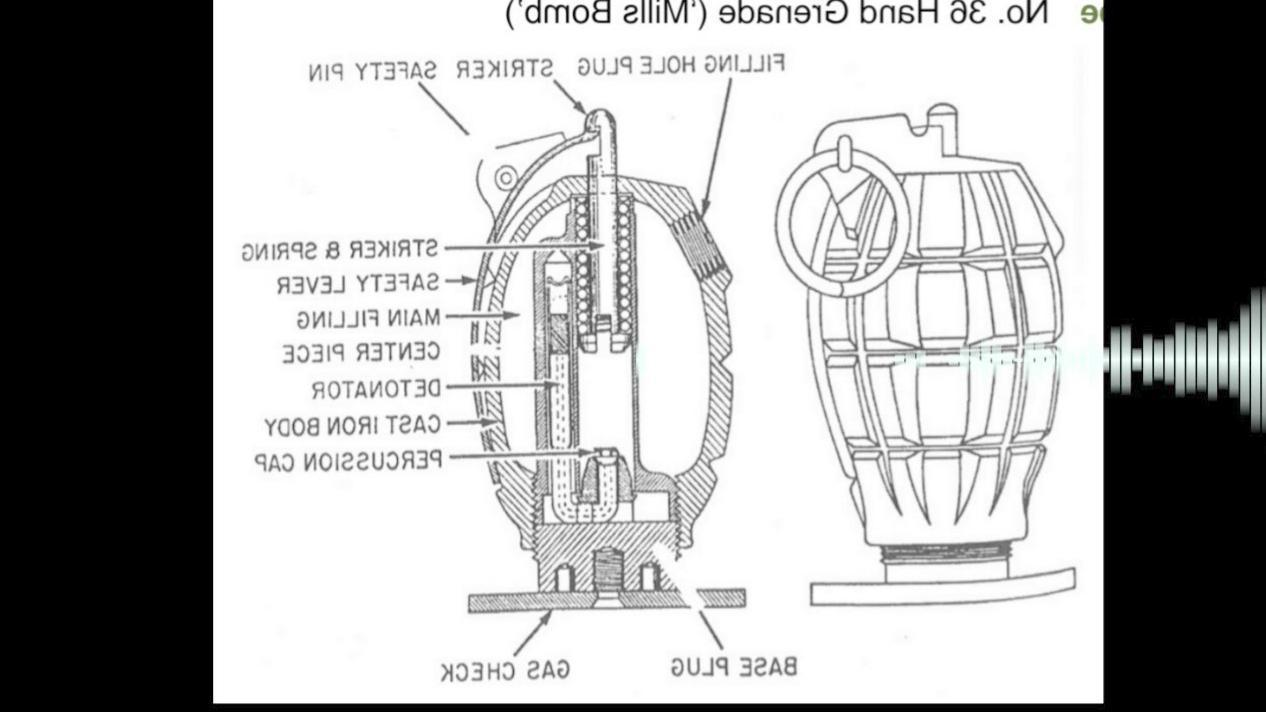Grenade: (774, 102, 1079, 606)
